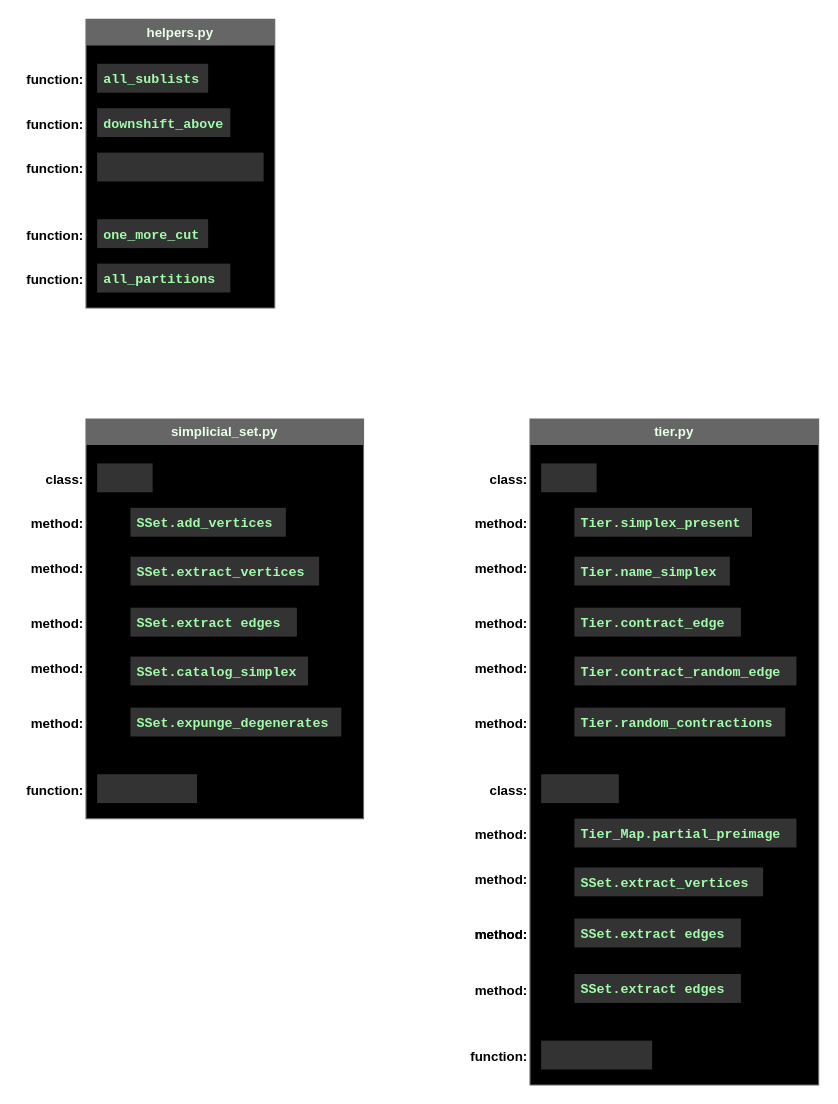
Image size: 838x1104. Some labels were removed from this diagram. Here are the shapes that lost their labels. From the top down, the box of each, then its label:
(97, 152, 263, 181): reverse_dictionary
(97, 463, 152, 492): SSet
(541, 463, 596, 492): Tier
(97, 774, 196, 803): from_graph
(541, 774, 618, 803): Tier_Map
(541, 1040, 652, 1069): compose_maps
